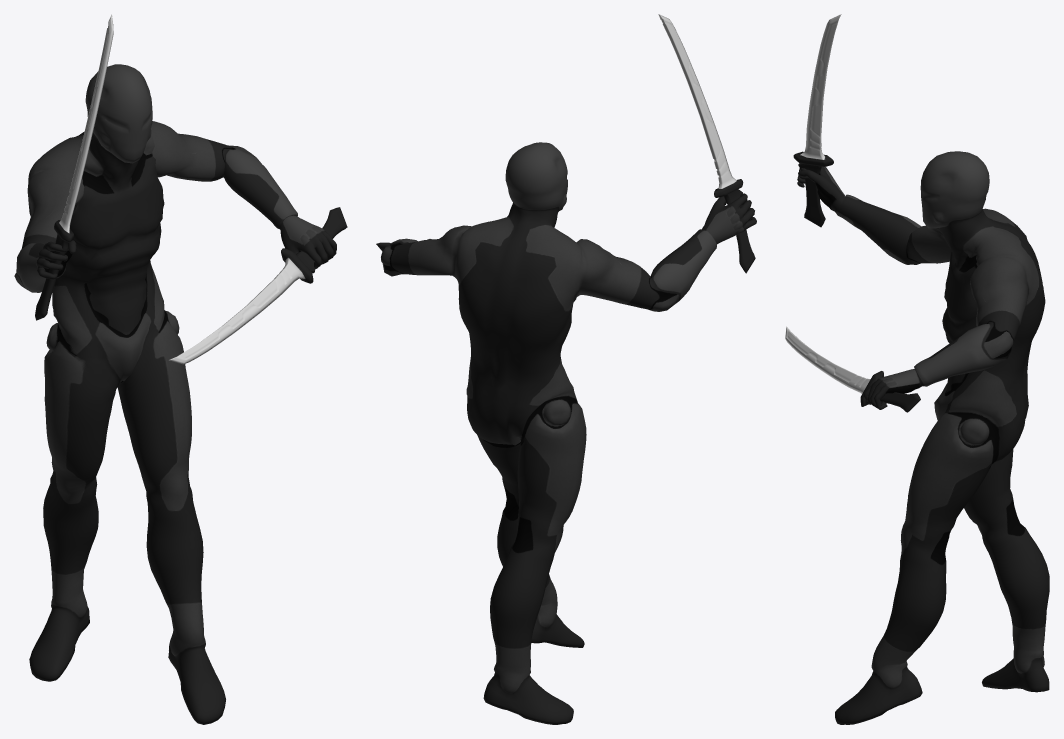
3 views of the same model, side by side, from view 1: azimuth 30°, elevation 25°; view 2: azimuth 150°, elevation 25°; view 3: azimuth 270°, elevation 25° (orthographic). The views are drawn at different scales.
Visible parts, largest first — view 1: Cyborg_Ninja_Killer, Sword_l, Sword_l001; view 2: Cyborg_Ninja_Killer, Sword_l001; view 3: Cyborg_Ninja_Killer, Sword_l001, Sword_l.
Part boxes in pixels (<box>): Cyborg_Ninja_Killer: <box>14,64,336,724</box>; Sword_l: <box>169,207,347,364</box>; Sword_l001: <box>35,14,113,320</box>; Cyborg_Ninja_Killer: <box>381,142,756,724</box>; Sword_l001: <box>658,14,755,273</box>; Cyborg_Ninja_Killer: <box>797,151,1049,724</box>; Sword_l001: <box>793,14,841,227</box>; Sword_l: <box>785,326,920,412</box>.
Bounding box in the file's own units: 116 × 223 × 80.52.
2 materials, 2 textured.
